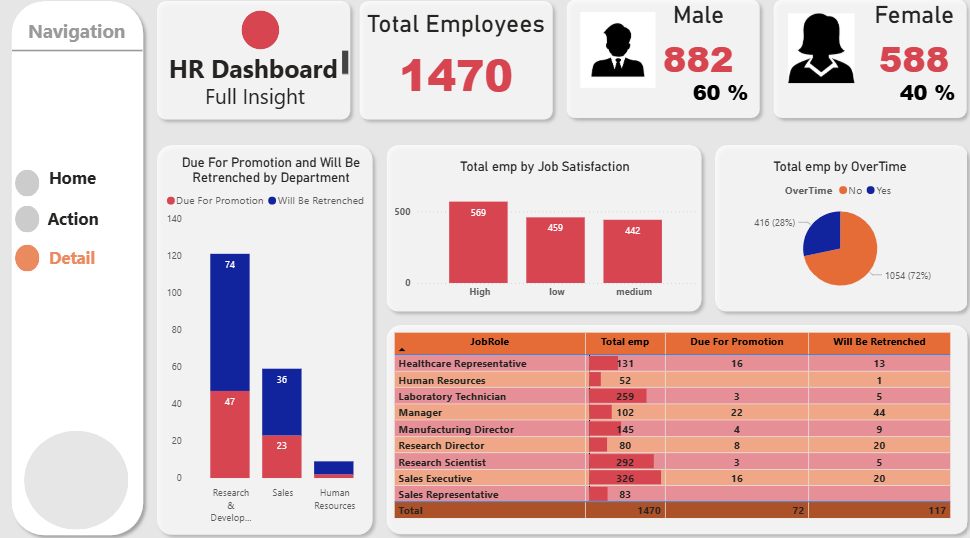

Layout of this report page (visuals, bound fields, positions):
{"tool":"powerbi","page":{"name":"Detail","canvas":[1280,720],"ordinal":2},"visuals":[{"type":"shape","box":[28.2,3.3,187.2,704],"z":0},{"type":"shape","box":[216,4,266,170],"z":1000},{"type":"shape","box":[476,4,266,170],"z":2000},{"type":"shape","box":[742,2,266,170],"z":3000},{"type":"shape","box":[1008,2,266,170],"z":4000},{"type":"textbox","box":[281.5,111.1,156.8,51.9],"z":5000},{"type":"textbox","box":[235.7,71.4,240,45.7],"z":6000},{"type":"shape","box":[332.9,24.3,48.6,50],"z":7000},{"type":"cardVisual","title":"Total Employees","fields":{"Data":["_Measure.Total emp"]},"box":[458.3,22.2,300,130.6],"z":8000},{"type":"cardVisual","title":"Male","fields":{"Data":["_Measure.Male"]},"box":[827,12.2,187.8,112.2],"z":9000},{"type":"cardVisual","title":"Male","fields":{"Data":["_Measure.% Male"]},"box":[881.2,94.4,132.5,67.9],"z":10000},{"type":"image","box":[741.9,27,150,97.3],"z":11000},{"type":"cardVisual","title":"Female","fields":{"Data":["_Measure.Female"]},"box":[1112.2,12.2,167.6,112.2],"z":12000},{"type":"cardVisual","title":"Male","fields":{"Data":["_Measure.% Female"]},"box":[1147.9,94.4,132.5,67.9],"z":13000},{"type":"image","box":[1032,28.2,91.1,89.4],"z":14000},{"type":"shape","box":[215.3,188.8,294.9,518.5],"z":15000},{"type":"columnChart","fields":{"Category":["HR Analytics Data.Department"],"Y":["_Measure.Due For Promotion","_Measure.Will Be Retrenched"]},"box":[230.3,210.4,279.9,482],"z":16000},{"type":"shape","box":[510.2,188.8,422.4,231.9],"z":17000},{"type":"columnChart","fields":{"Y":["_Measure.Total emp"],"Category":["HR Analytics Data.Job Satisfaction"]},"box":[523.4,215.3,397.6,188.8],"z":18000},{"type":"shape","box":[932.6,188.8,342.9,231.9],"z":19000},{"type":"pieChart","fields":{"Y":["_Measure.Total emp"],"Category":["HR Analytics Data.OverTime"]},"box":[947.5,215.3,308.1,180.6],"z":20000},{"type":"shape","box":[510.2,420.7,765.3,286.6],"z":21000},{"type":"tableEx","fields":{"Values":["HR Analytics Data.JobRole","_Measure.Total emp","_Measure.Due For Promotion","_Measure.Will Be Retrenched"]},"box":[523.4,434,735.5,258.4],"z":22000},{"type":"shape","box":[38.1,13.3,167.3,125.9],"z":23000},{"type":"textbox","box":[53,28.2,157.4,49.7],"z":24000},{"type":"shape","box":[43.1,275,31.5,34.8],"z":25000},{"type":"shape","box":[43.1,324.7,31.5,34.8],"z":26000},{"type":"shape","box":[43.1,228.6,31.5,34.8],"z":27000},{"type":"textbox","box":[81.2,220.3,120.9,43.1],"z":28000},{"type":"textbox","box":[79.5,271.7,120.9,43.1],"z":29000},{"type":"textbox","box":[81.2,321.4,120.9,43.1],"z":30000},{"type":"shape","box":[53,564.9,134.2,127.5],"z":31000}]}

Visuals, with their boxes in screenshot pixels (x1, y1, x2, y2), scaled from the page's 1280x720 canvas onto the 970x538 screenshot:
shape: box=[21, 2, 163, 529]
shape: box=[164, 3, 365, 130]
shape: box=[361, 3, 562, 130]
shape: box=[562, 1, 764, 129]
shape: box=[764, 1, 965, 129]
textbox: box=[213, 83, 332, 122]
textbox: box=[179, 53, 360, 87]
shape: box=[252, 18, 289, 56]
"Total Employees" cardVisual: box=[347, 17, 575, 114]
"Male" cardVisual: box=[627, 9, 769, 93]
"Male" cardVisual: box=[668, 71, 768, 121]
image: box=[562, 20, 676, 93]
"Female" cardVisual: box=[843, 9, 969, 93]
"Male" cardVisual: box=[870, 71, 969, 121]
image: box=[782, 21, 851, 88]
shape: box=[163, 141, 387, 529]
columnChart - HR Analytics Data.Department x _Measure.Due For Promotion: box=[175, 157, 387, 517]
shape: box=[387, 141, 707, 314]
columnChart - _Measure.Total emp x HR Analytics Data.Job Satisfaction: box=[397, 161, 698, 302]
shape: box=[707, 141, 967, 314]
pieChart - _Measure.Total emp x HR Analytics Data.OverTime: box=[718, 161, 952, 296]
shape: box=[387, 314, 967, 529]
tableEx - HR Analytics Data.JobRole x _Measure.Total emp: box=[397, 324, 954, 517]
shape: box=[29, 10, 156, 104]
textbox: box=[40, 21, 159, 58]
shape: box=[33, 205, 57, 231]
shape: box=[33, 243, 57, 269]
shape: box=[33, 171, 57, 197]
textbox: box=[62, 165, 153, 197]
textbox: box=[60, 203, 152, 235]
textbox: box=[62, 240, 153, 272]
shape: box=[40, 422, 142, 517]
